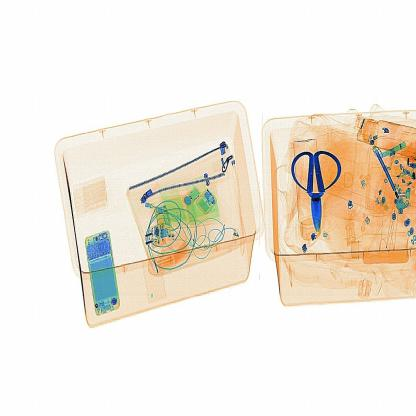gun: (282, 150, 350, 239)
